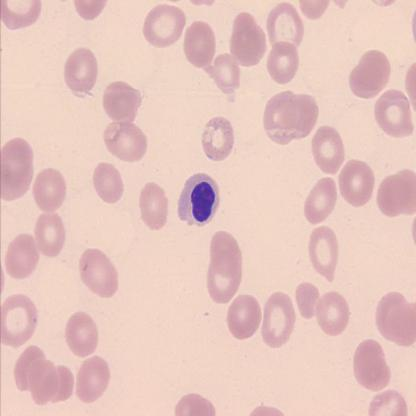NRC: (177, 171, 220, 227)
